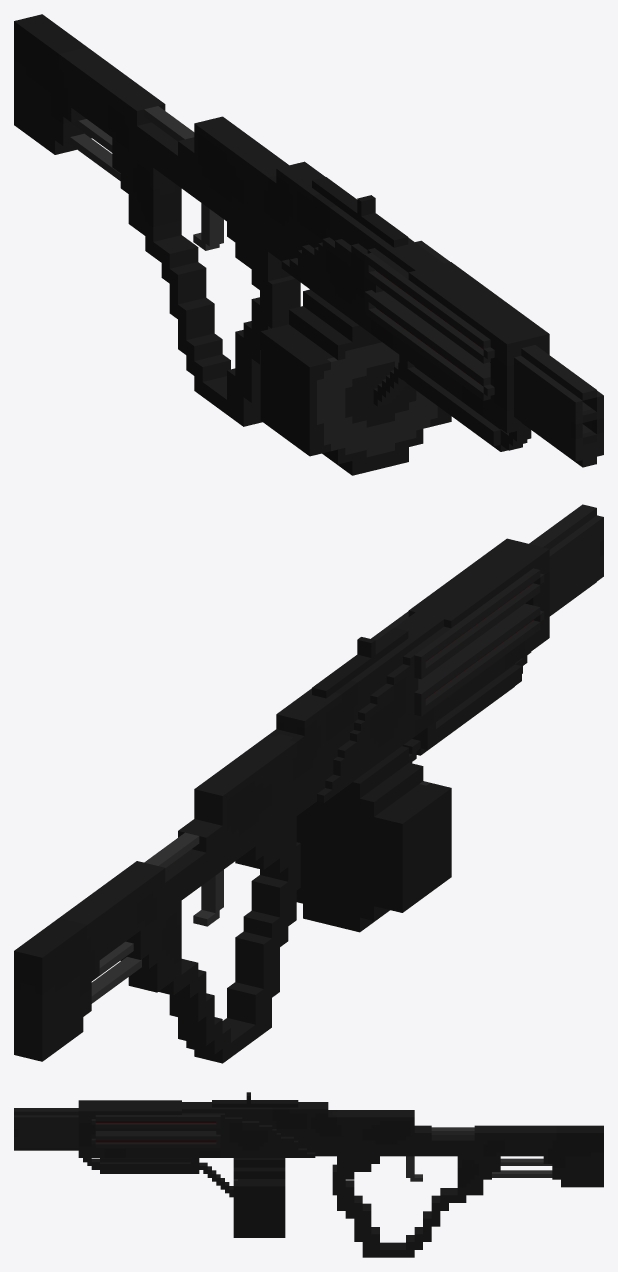
The model's file is killer.glb.
3 views of the same model, one above another, from view 1: azimuth 30°, elevation 25°; view 2: azimuth 150°, elevation 25°; view 3: azimuth 270°, elevation 25° (orthographic). The views are drawn at different scales.
Parts seen in each view (by area): view 1: killer; view 2: killer; view 3: killer.
Part boxes in pixels (x1,y1,x2,y2): killer: (14, 14, 603, 475); killer: (14, 504, 603, 1063); killer: (14, 1092, 603, 1257).
Bounding box in the file's own units: 2 × 4.1 × 13.7.
1 material, 1 textured.
